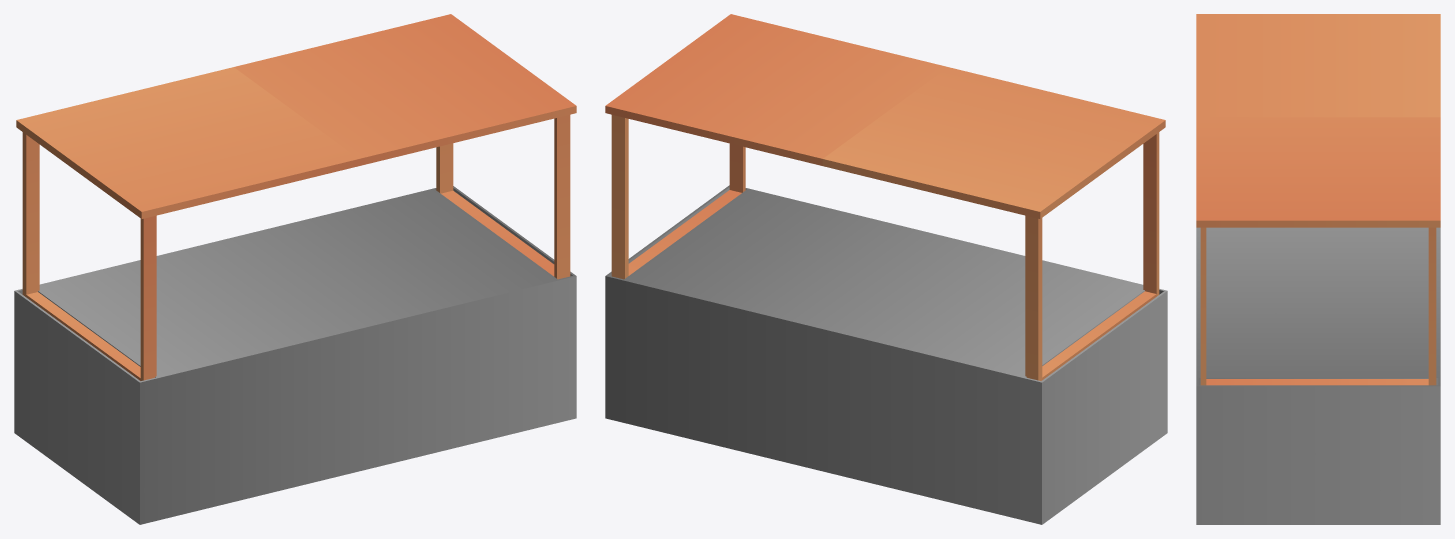
The model's file is Collapsible Platform.fbx.
3 views of the same model, side by side, from view 1: azimuth 30°, elevation 25°; view 2: azimuth 150°, elevation 25°; view 3: azimuth 270°, elevation 25° (orthographic). The views are drawn at different scales.
Visible parts, largest first — view 1: Collapsible Platform, Collapsible Platform:Top; view 2: Collapsible Platform, Collapsible Platform:Top; view 3: Collapsible Platform, Collapsible Platform:Top.
Part boxes in pixels (box(x1,y1,x2,y2)): Collapsible Platform: box(14, 186, 576, 524); Collapsible Platform:Top: box(16, 14, 576, 380); Collapsible Platform: box(605, 185, 1167, 524); Collapsible Platform:Top: box(605, 14, 1165, 380); Collapsible Platform: box(1196, 227, 1440, 524); Collapsible Platform:Top: box(1196, 14, 1440, 385).
Size of the model in its own units: 6.36 by 4.35 by 3.16.
Materials: 1 (1 with a texture image).
